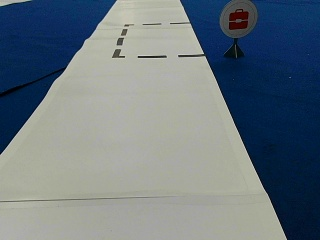company: (220, 1, 258, 38)
